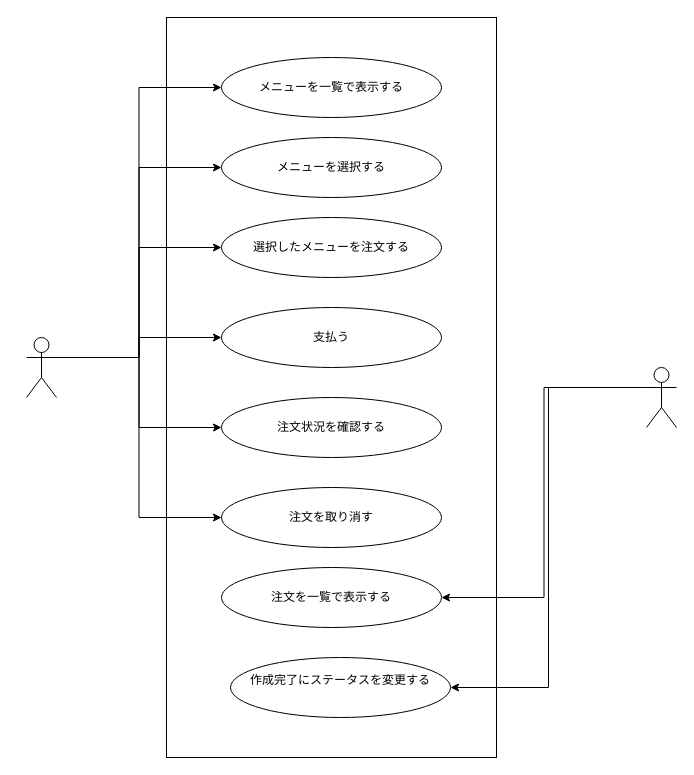
The diagram is 694 pixels wide and 775 high, and some of its shapes have lost their labels. Here are the shapes that lost their labels. From the top down, the box of each, then its label:
(26, 336, 56, 398): お客さん
(166, 16, 496, 758): モバイルオーダーアプリ
(646, 366, 676, 428): 店員
